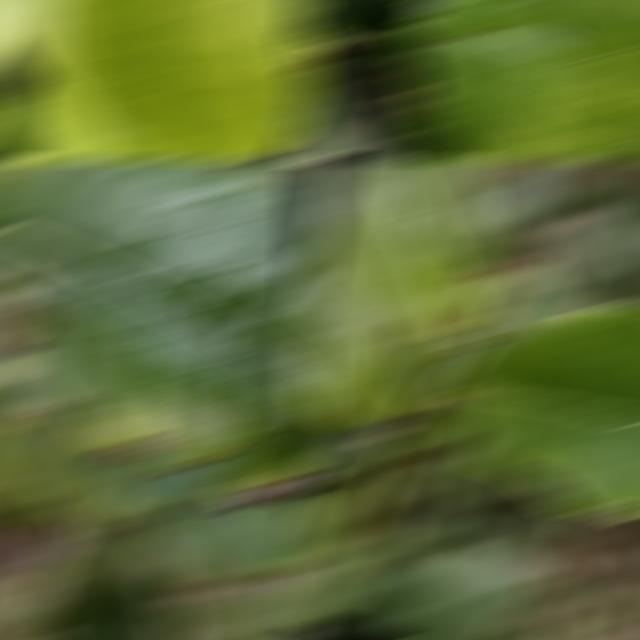Leaf: (0, 162, 318, 506), (39, 2, 318, 158), (441, 306, 640, 512), (402, 2, 640, 158), (320, 162, 487, 331), (88, 449, 318, 569), (0, 2, 168, 158), (296, 217, 423, 422), (12, 391, 128, 538), (373, 548, 550, 638), (0, 503, 72, 638), (42, 568, 175, 638), (296, 68, 384, 158), (323, 564, 424, 631), (479, 178, 558, 258), (296, 538, 368, 621), (344, 2, 437, 59), (534, 212, 640, 261)
